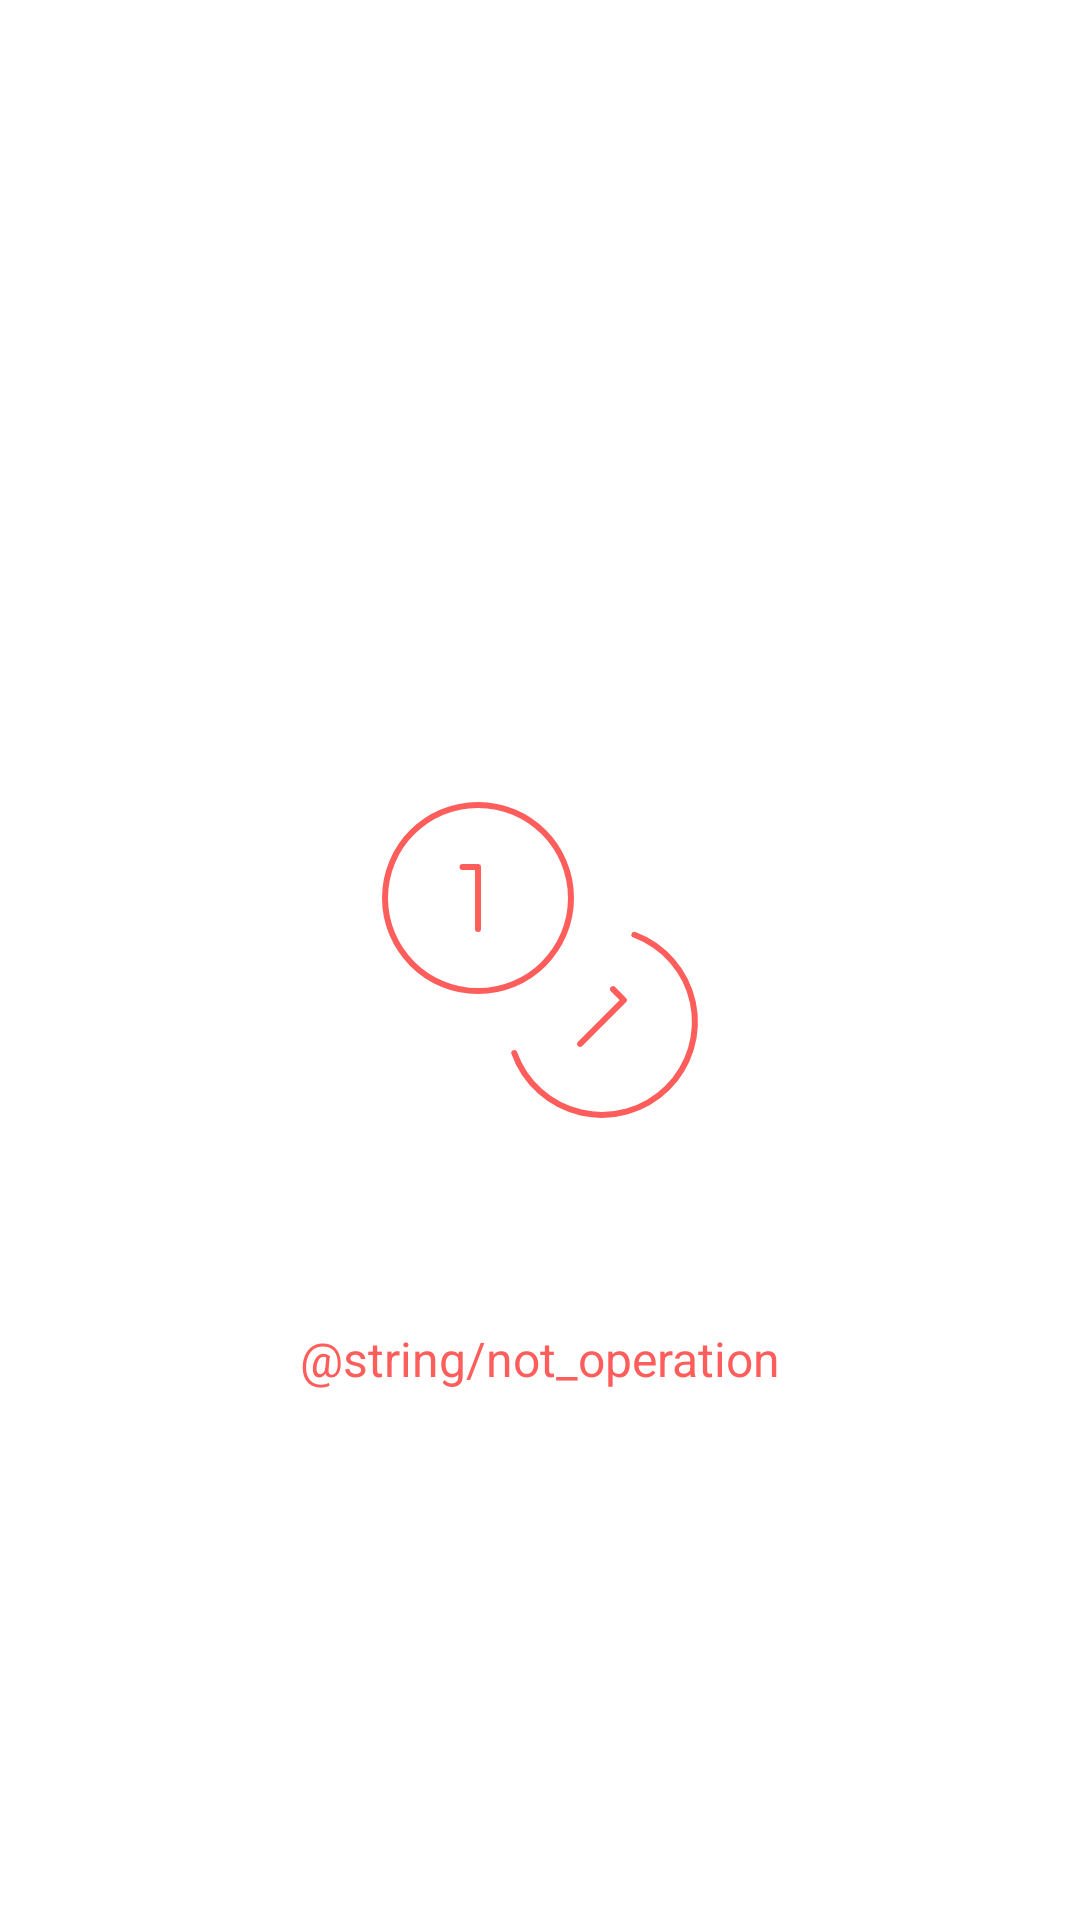

Screen size 1080 × 1920. Icon name, then its center in pixels as [x,y]:
coins: [540,960]
